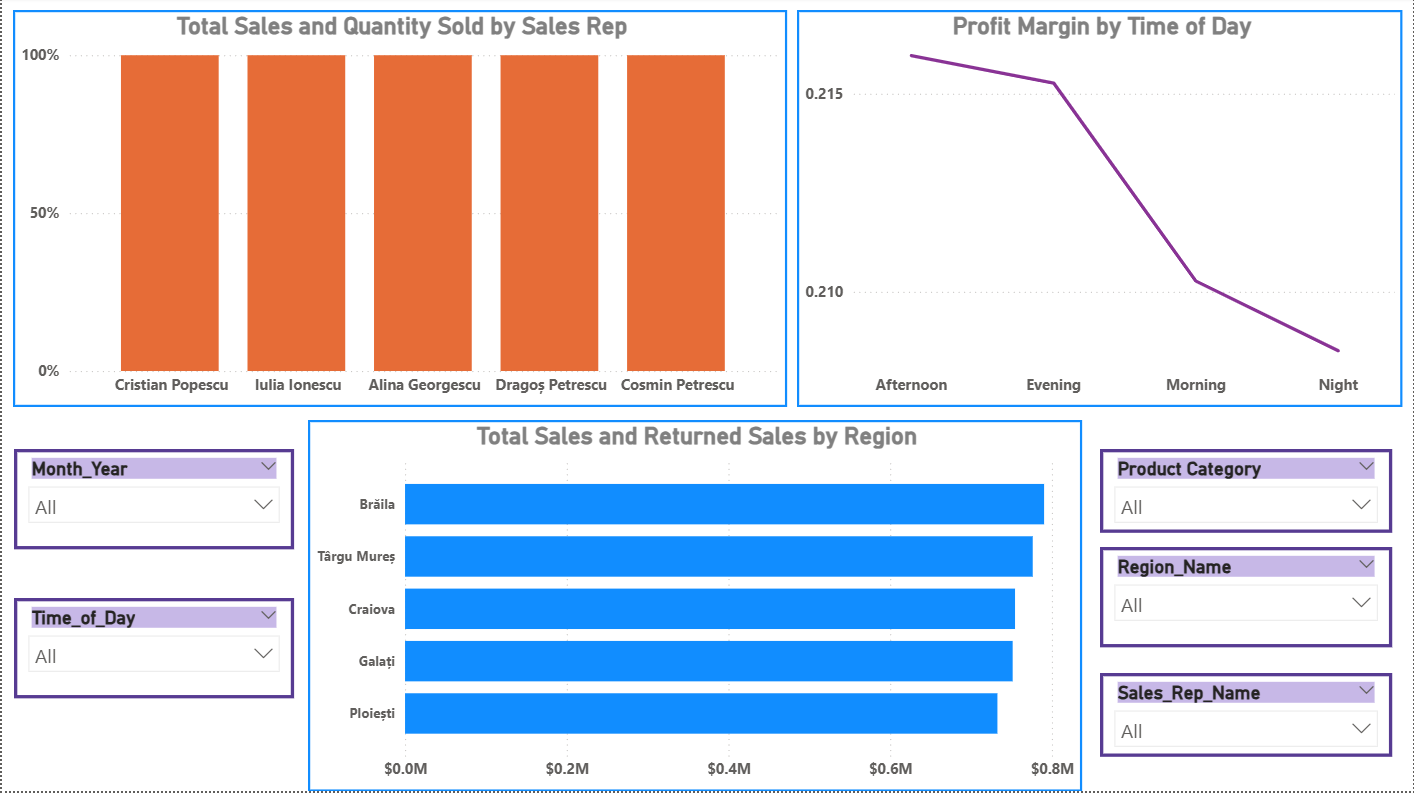

What the dashboard file says about the page in this screenshot:
{"tool":"powerbi","page":{"name":"Dashboard 3","canvas":[1280,720],"ordinal":3},"visuals":[{"type":"hundredPercentStackedColumnChart","title":"Total Sales and Quantity Sold by Sales Rep","fields":{"Category":["Orders.Sales_Rep_Name"],"Y":["Sum(Orders.Total_Sales)"]},"box":[10.3,11.8,701.5,360.4],"z":0},{"type":"clusteredBarChart","title":"Total Sales and Returned Sales by Region","fields":{"Category":["Orders.Region_Name"],"Y":["Sum(Orders.Total_Sales)"]},"box":[277.7,384,701.5,336.7],"z":1000},{"type":"lineChart","title":"Profit Margin by Time of Day","fields":{"Category":["Orders.Time_of_Day"],"Y":["Orders.Profit Margin"]},"box":[720.7,11.8,549.4,360.4],"z":2000},{"type":"slicer","fields":{"Values":["Orders.Product_Category"]},"box":[995.6,410.3,264.8,75.9],"z":8000},{"type":"slicer","fields":{"Values":["Orders.Region_Name"]},"box":[995.6,498.6,264.8,91.4],"z":9000},{"type":"slicer","fields":{"Values":["Orders.Sales_Rep_Name"]},"box":[995.6,613.2,264.8,75.9],"z":10000},{"type":"slicer","fields":{"Values":["Orders.Month_Year"]},"box":[10.8,410.3,253.9,91.4],"z":11000},{"type":"slicer","fields":{"Values":["Orders.Time_of_Day"]},"box":[10.8,545,253.9,91.4],"z":12000}]}

Visuals, with their boxes in screenshot pixels (x1, y1, x2, y2), scaled from the page's 1280x720 canvas onto the 1414x793 screenshot:
"Total Sales and Quantity Sold by Sales Rep" hundredPercentStackedColumnChart: {"x1": 11, "y1": 13, "x2": 786, "y2": 410}
"Total Sales and Returned Sales by Region" clusteredBarChart: {"x1": 307, "y1": 423, "x2": 1082, "y2": 792}
"Profit Margin by Time of Day" lineChart: {"x1": 796, "y1": 13, "x2": 1403, "y2": 410}
slicer - Orders.Product_Category: {"x1": 1100, "y1": 452, "x2": 1392, "y2": 535}
slicer - Orders.Region_Name: {"x1": 1100, "y1": 549, "x2": 1392, "y2": 650}
slicer - Orders.Sales_Rep_Name: {"x1": 1100, "y1": 675, "x2": 1392, "y2": 759}
slicer - Orders.Month_Year: {"x1": 12, "y1": 452, "x2": 292, "y2": 553}
slicer - Orders.Time_of_Day: {"x1": 12, "y1": 600, "x2": 292, "y2": 701}
